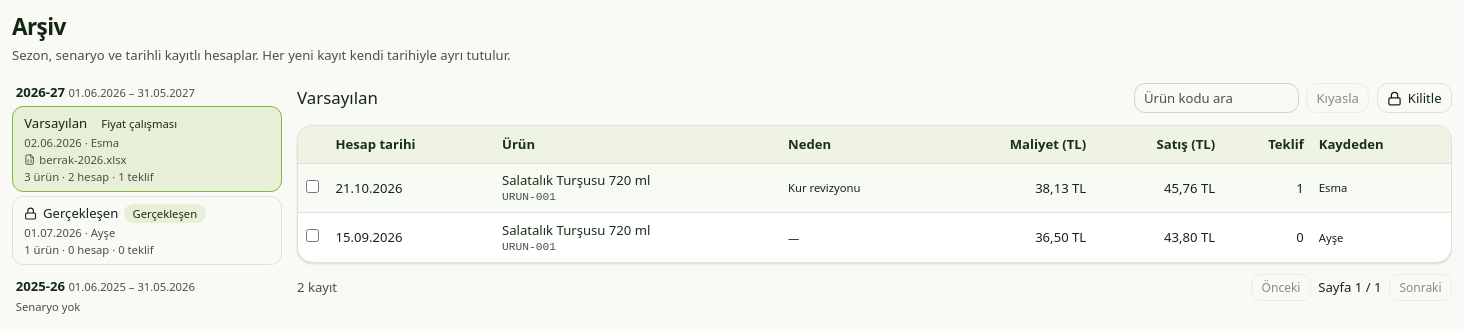
Scenario: Arşiv › ağaçtan başka senaryo seçilince onun kayıtları istenir (URL ?senaryo= ile uyumlu)
This screenshot has width=1464, height=331.
Expected: the element named "Kayıtlı hesaplar" is shown, [297,124,1452,263]
Click the button with aria-label "Senaryo Gerçekleşen" at x=81, y=213, box [12,196,282,265]
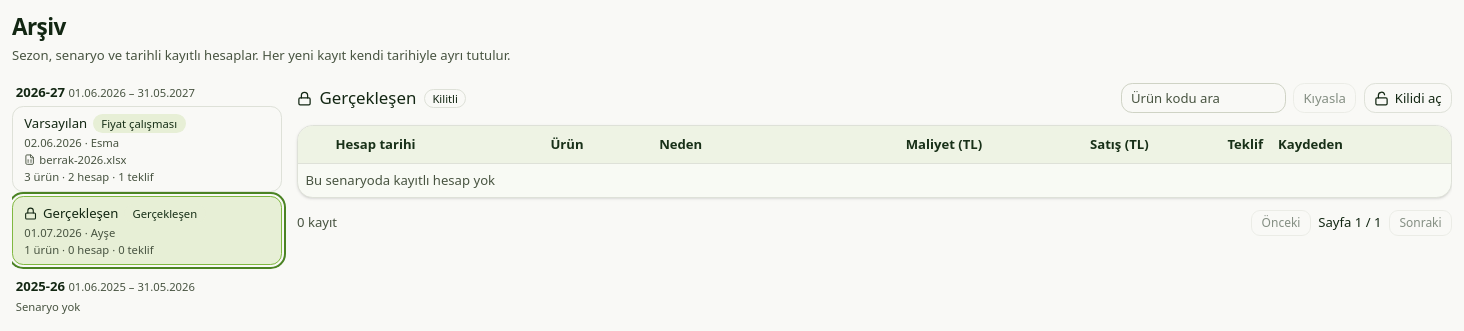
Expected: the text "Bu senaryoda kayıtlı hesap yok" is shown, [298,163,1451,197]
Expected: the heading "Gerçekleşen Kilitli" is shown, [297,85,466,111]
